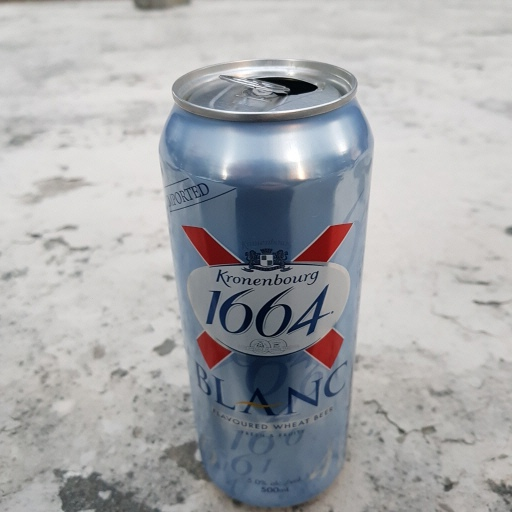Metal_0: (155, 57, 374, 509)
